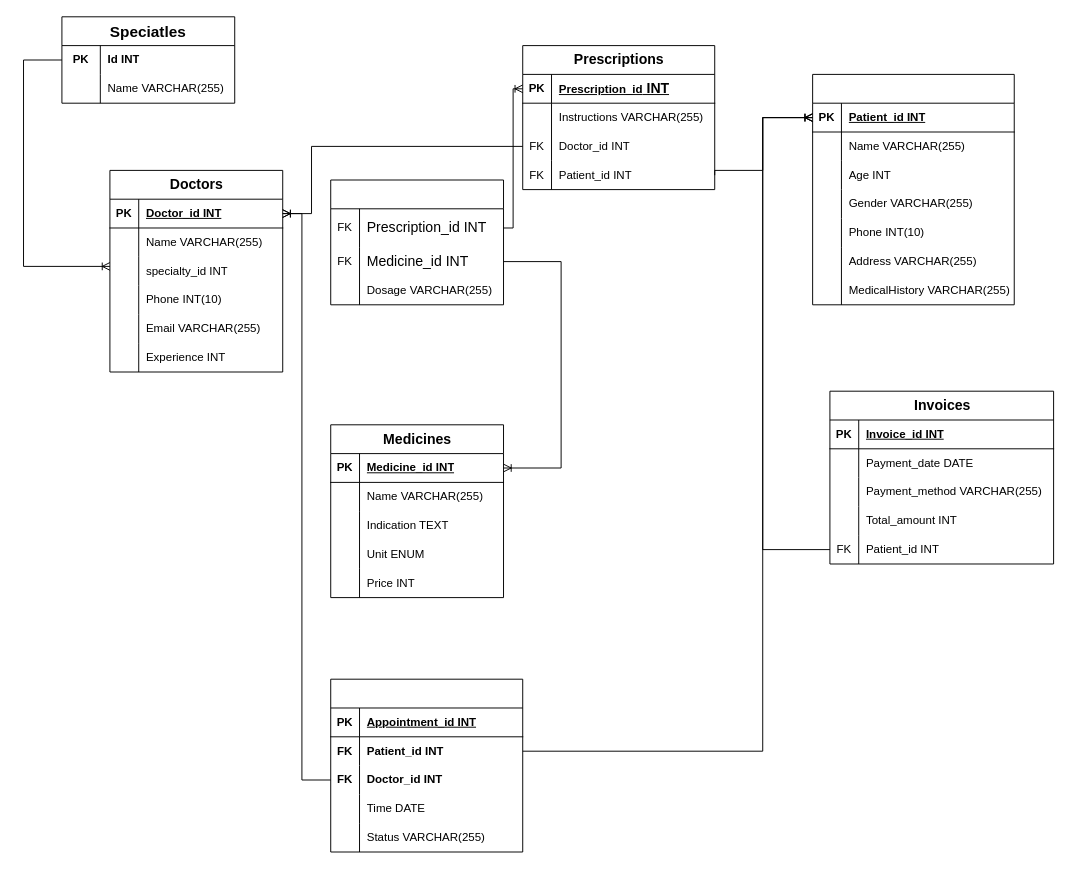
Some shapes in this 1070 by 869 pixel diagram are drawn without their labels. The shapes that lost their labels are listed below. From the top down, each one's box as (x1, y1, x2, y2) in pixels, then its label:
(812, 73, 1014, 305): Patients
(330, 179, 504, 305): Prescription_detail
(330, 678, 523, 852): Appointments
